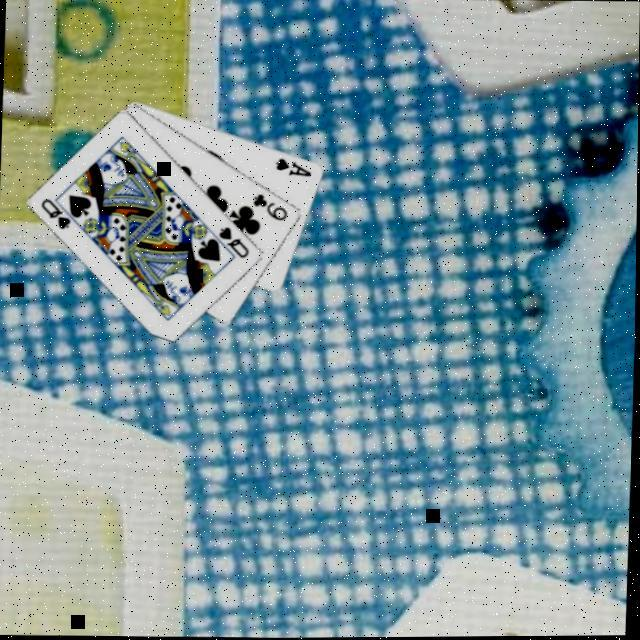9C: (252, 192, 294, 226)
AS: (275, 156, 316, 182)
QS: (218, 225, 255, 262), (40, 197, 76, 234)
